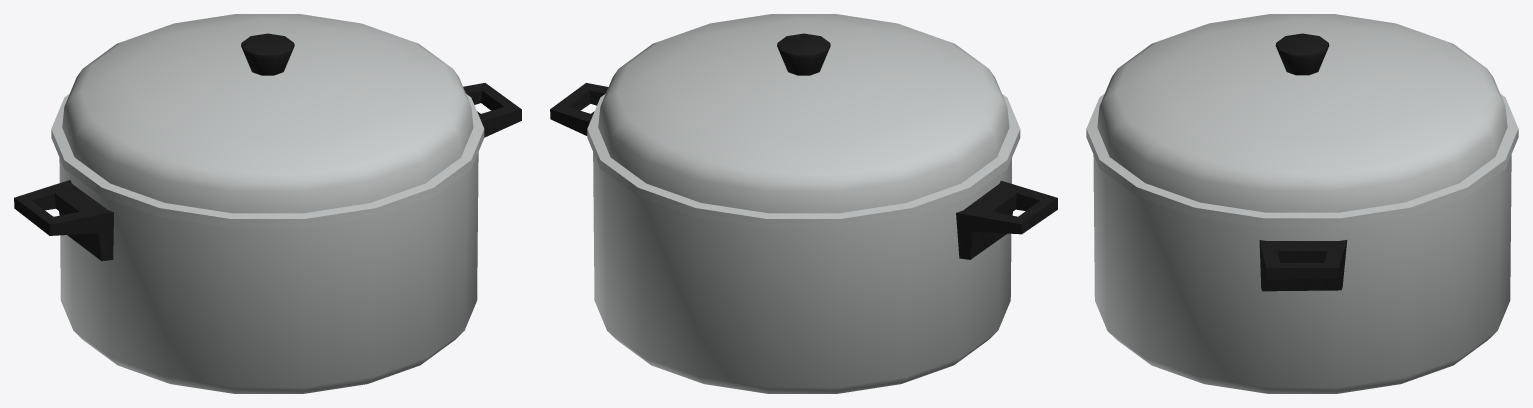
File: pot.FBX
The picture shows the model from 3 angles, left to right: view 1: azimuth 30°, elevation 25°; view 2: azimuth 150°, elevation 25°; view 3: azimuth 270°, elevation 25°; orthographic projection.
Visible parts, largest first — view 1: pot; view 2: pot; view 3: pot.
Boxes of the visible parts, box(x1,y1,x2,y2) form: pot: box(14, 14, 521, 393); pot: box(550, 14, 1057, 393); pot: box(1086, 14, 1518, 393).
Bounding box in the file's own units: 41.85 × 22.76 × 33.24.
1 material, 1 textured.
